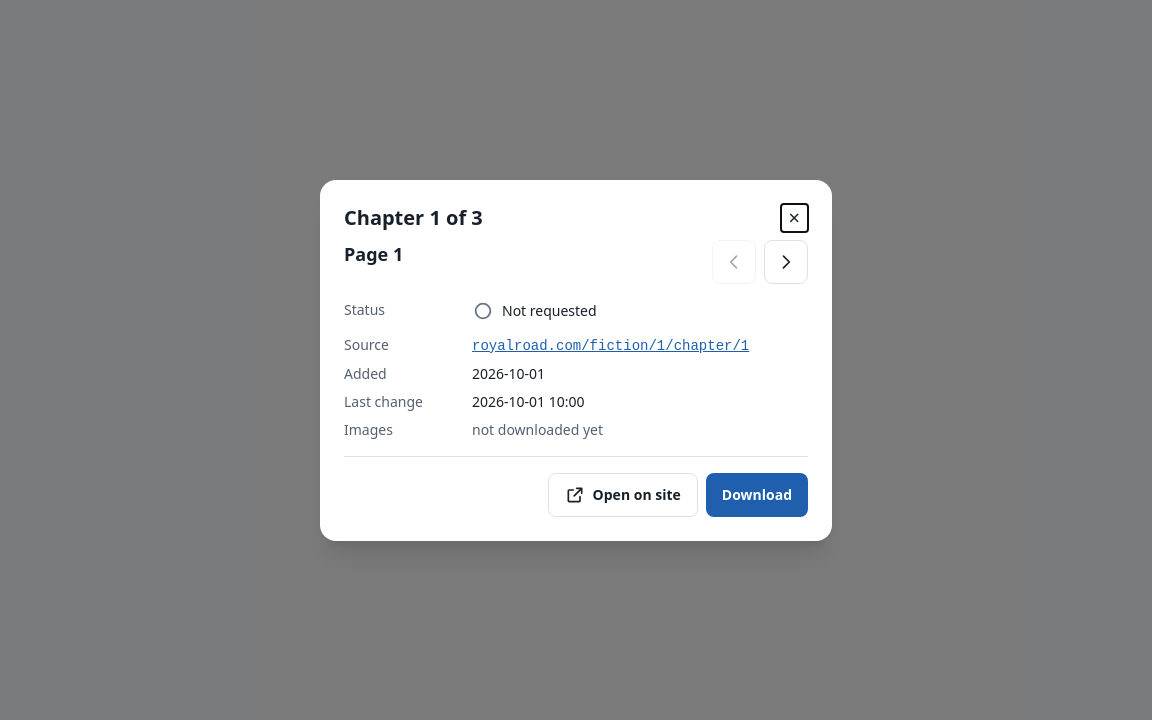
Test: ChapterDetails › primary action › an error on one chapter does not show after stepping to the next
Step 1. Click the button "Download" → click(757, 494), box [706,472,808,516]
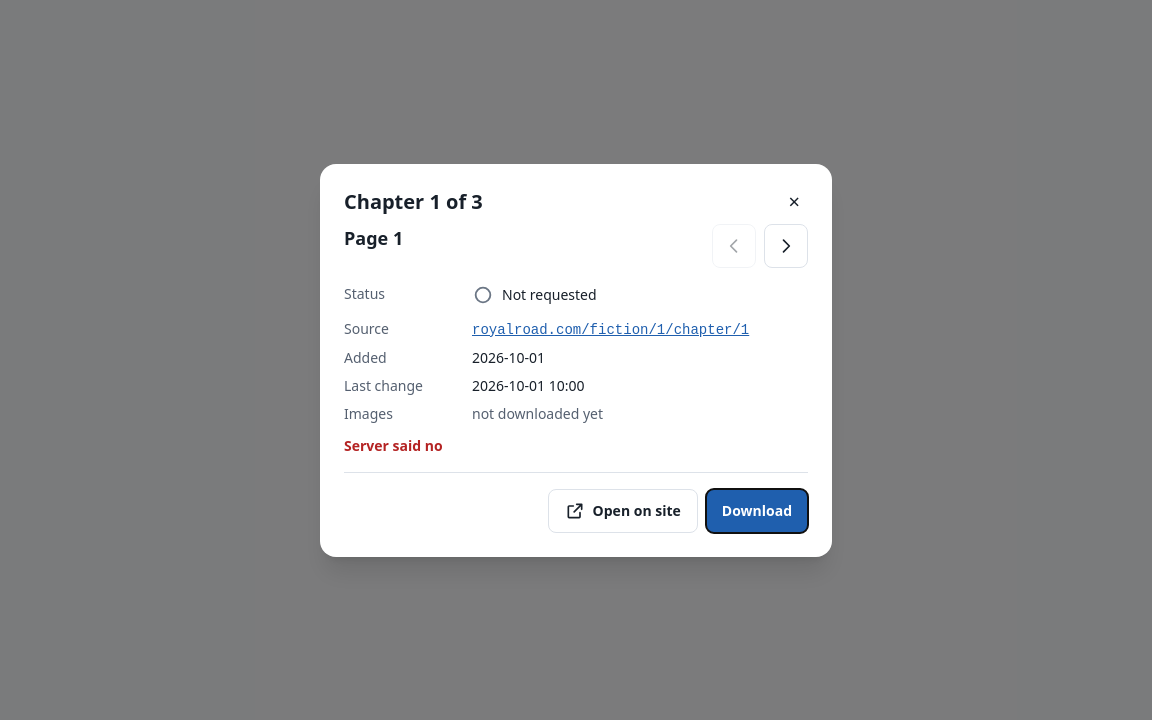
Check: the message reads "Server said no", box [344,436,443,454]
Step 2. Click the button named "Next chapter" → click(786, 246), box [764,224,808,268]
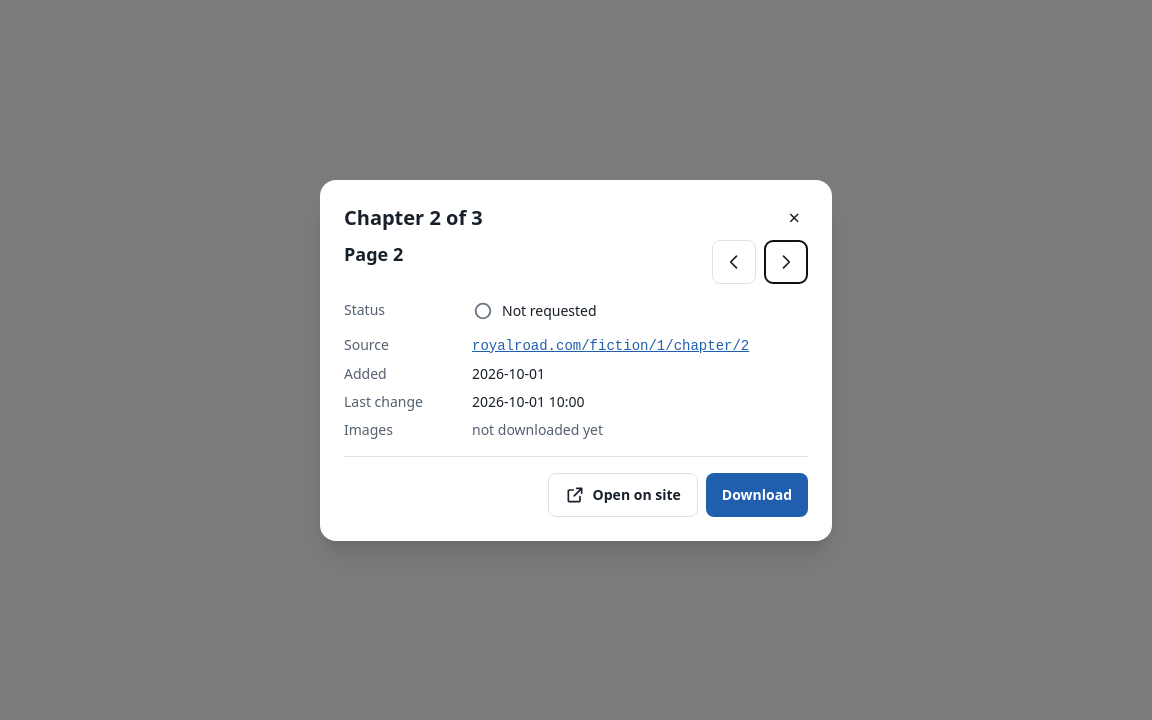
Check: the button "Download" is enabled, box [706,472,808,516]
Check: the heading "Chapter 2 of 3" is shown, box [344,204,483,232]
Check: the message "Server said no" is gone
